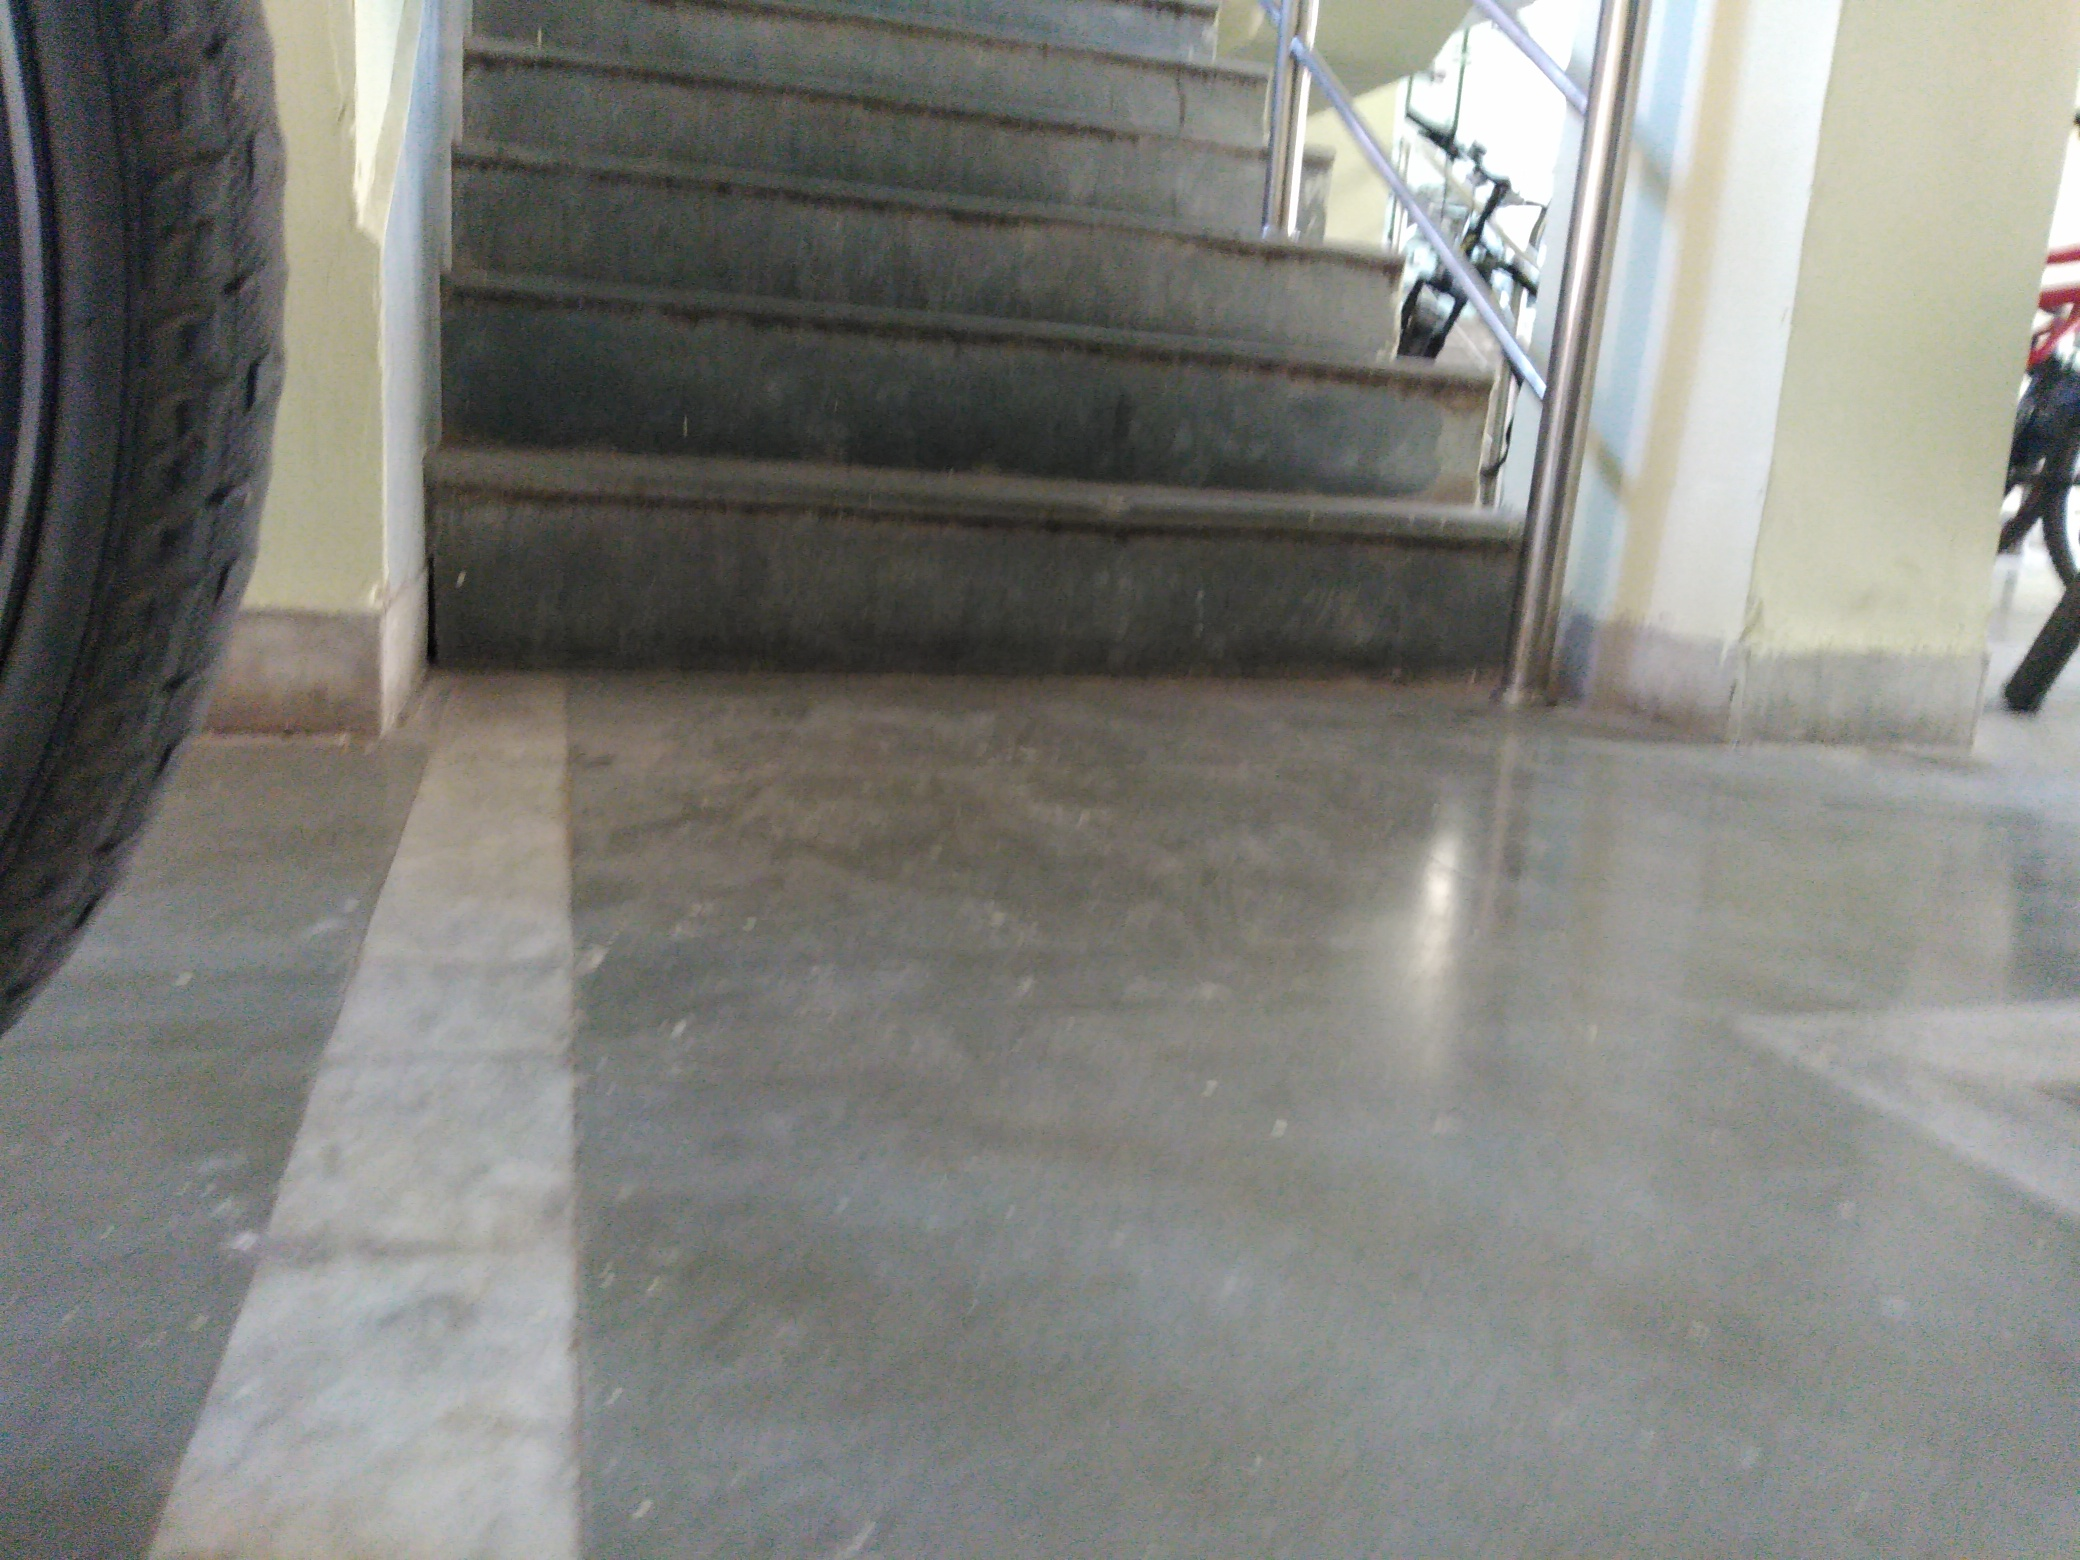stairs_up: (439, 11, 1531, 677)
